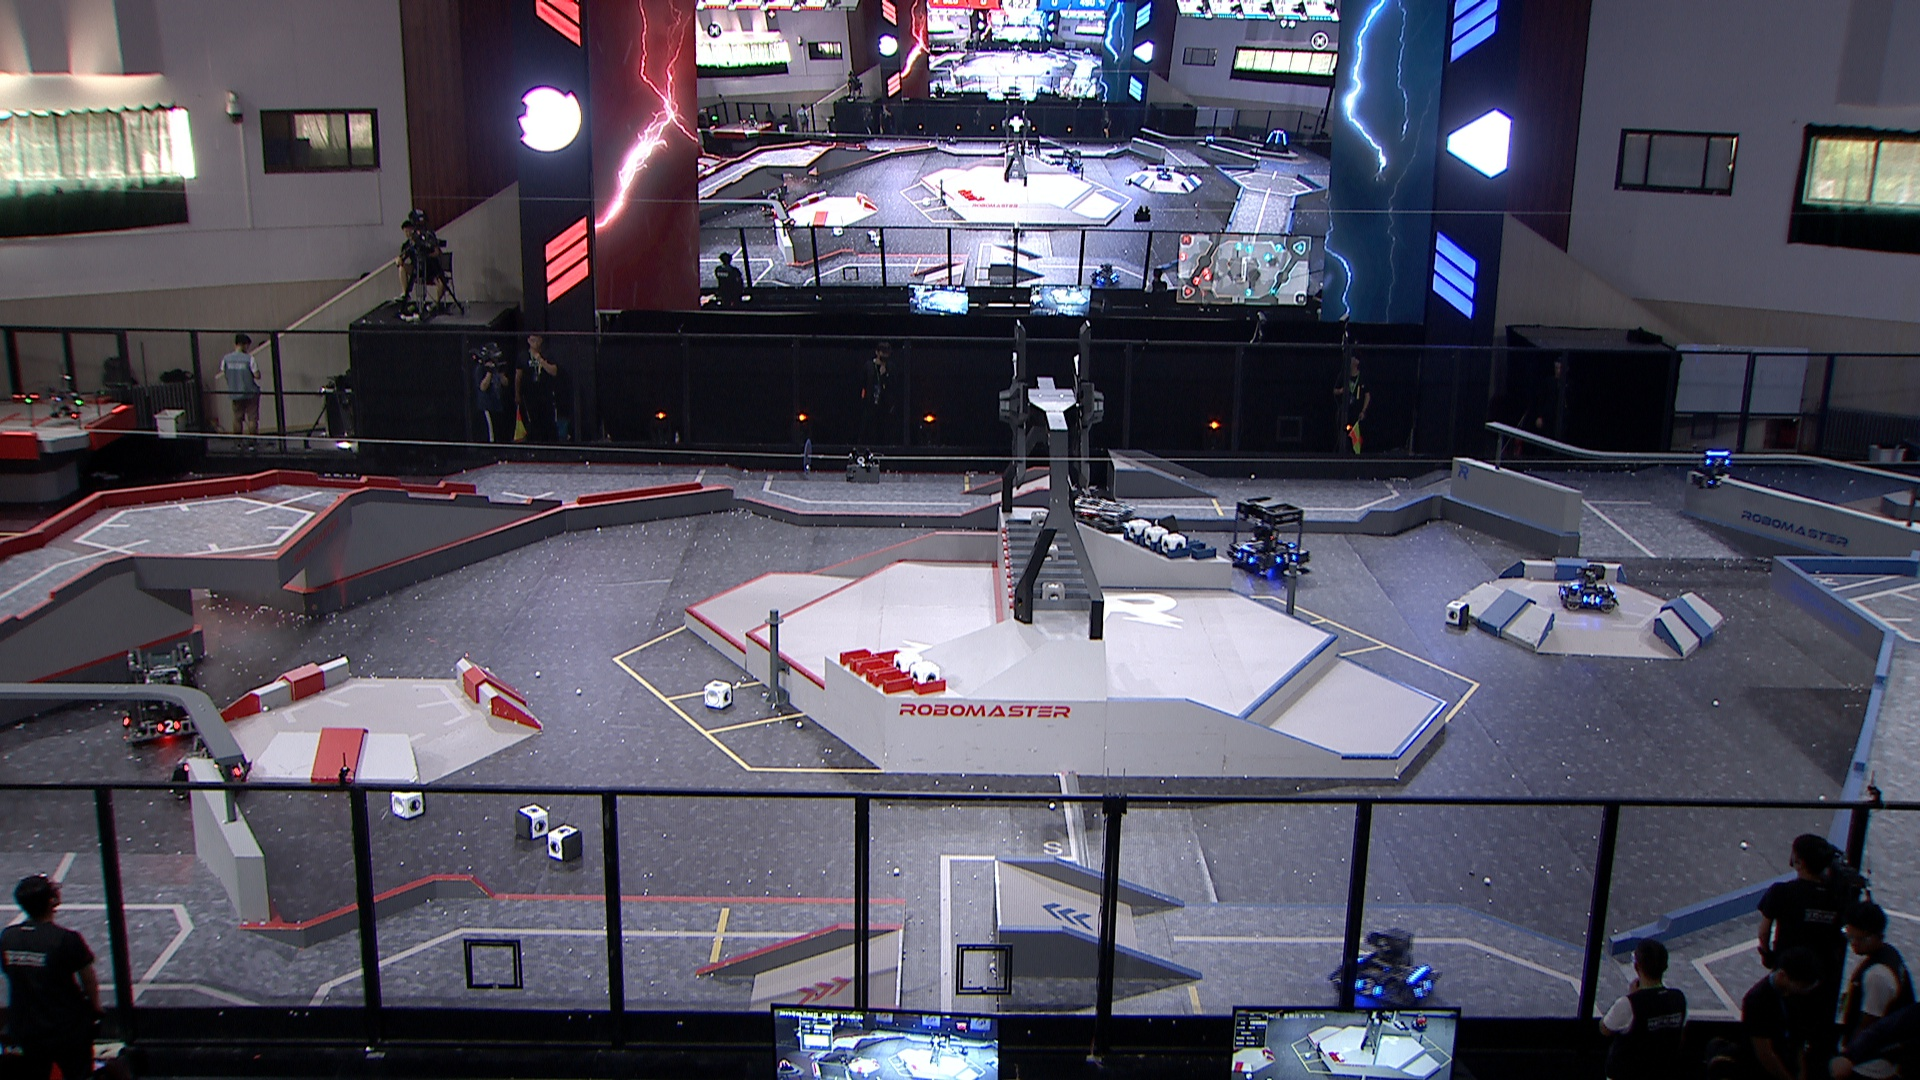armor: (1354, 975, 1385, 997), (1411, 981, 1436, 1000), (154, 719, 182, 735), (1236, 549, 1257, 566), (1276, 553, 1300, 567), (1581, 591, 1602, 607), (1704, 458, 1731, 469), (229, 760, 245, 778), (1567, 580, 1582, 593)
car: (1328, 924, 1443, 1014), (120, 642, 206, 749), (1226, 495, 1313, 579), (1058, 495, 1138, 574), (167, 731, 255, 796), (1560, 564, 1621, 613)
ignore: (760, 186, 789, 216), (1262, 129, 1291, 154), (1091, 261, 1120, 286), (1063, 146, 1083, 171), (781, 216, 798, 235), (1156, 166, 1174, 182), (1201, 133, 1216, 150)
watcher: (1695, 450, 1731, 491)
